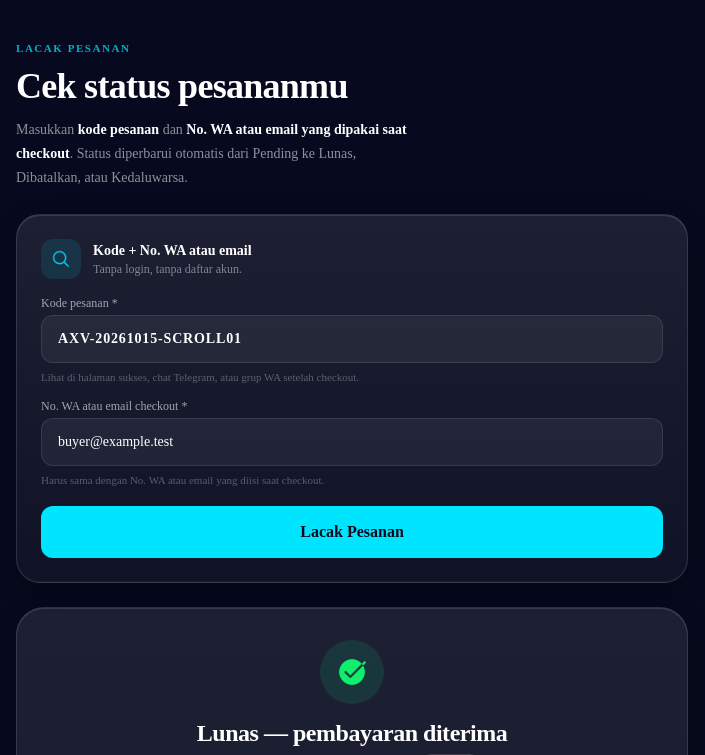
account details auto-scroll › tracking scrolls to each newly verified order, without showing or scrolling to the previous account
(page scrolled)
Replace the text in the field labelled "Kode pesanan *" with "AXV-20261015-SCROLL02". click: (352, 339)
box: [41,315,663,363]
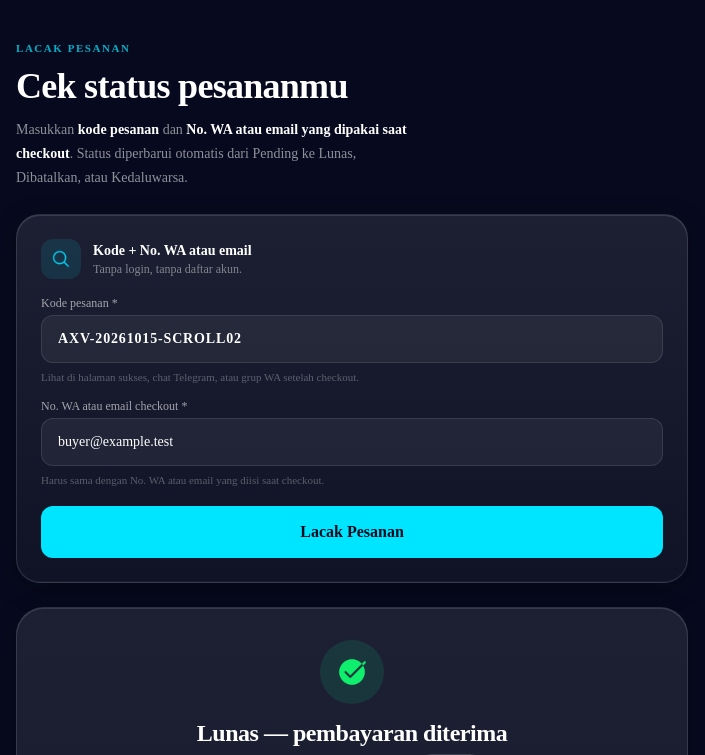
Submit the form named "Formulir lacak pesanan", box [16,214,688,583]
(page scrolled)
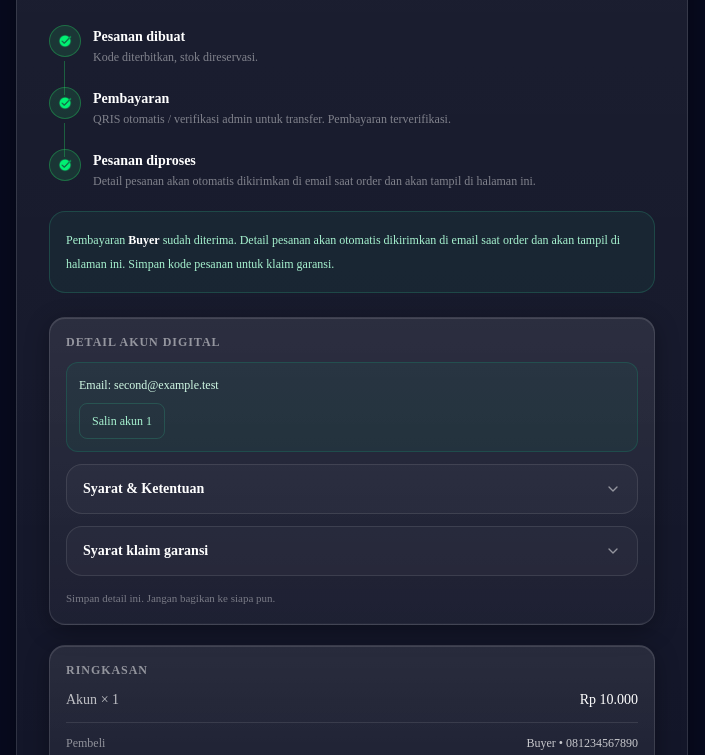
Check: the text "Email: second@example.test" is shown, box [79,378,219,392]
